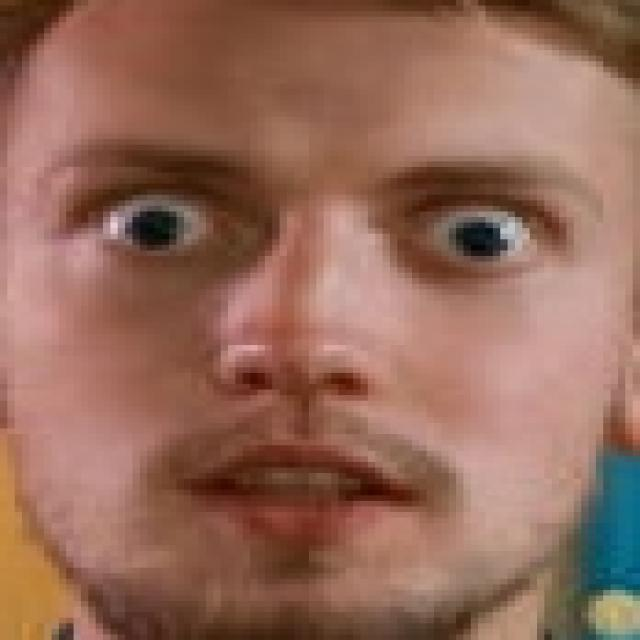Anxiety: (7, 0, 640, 634)
